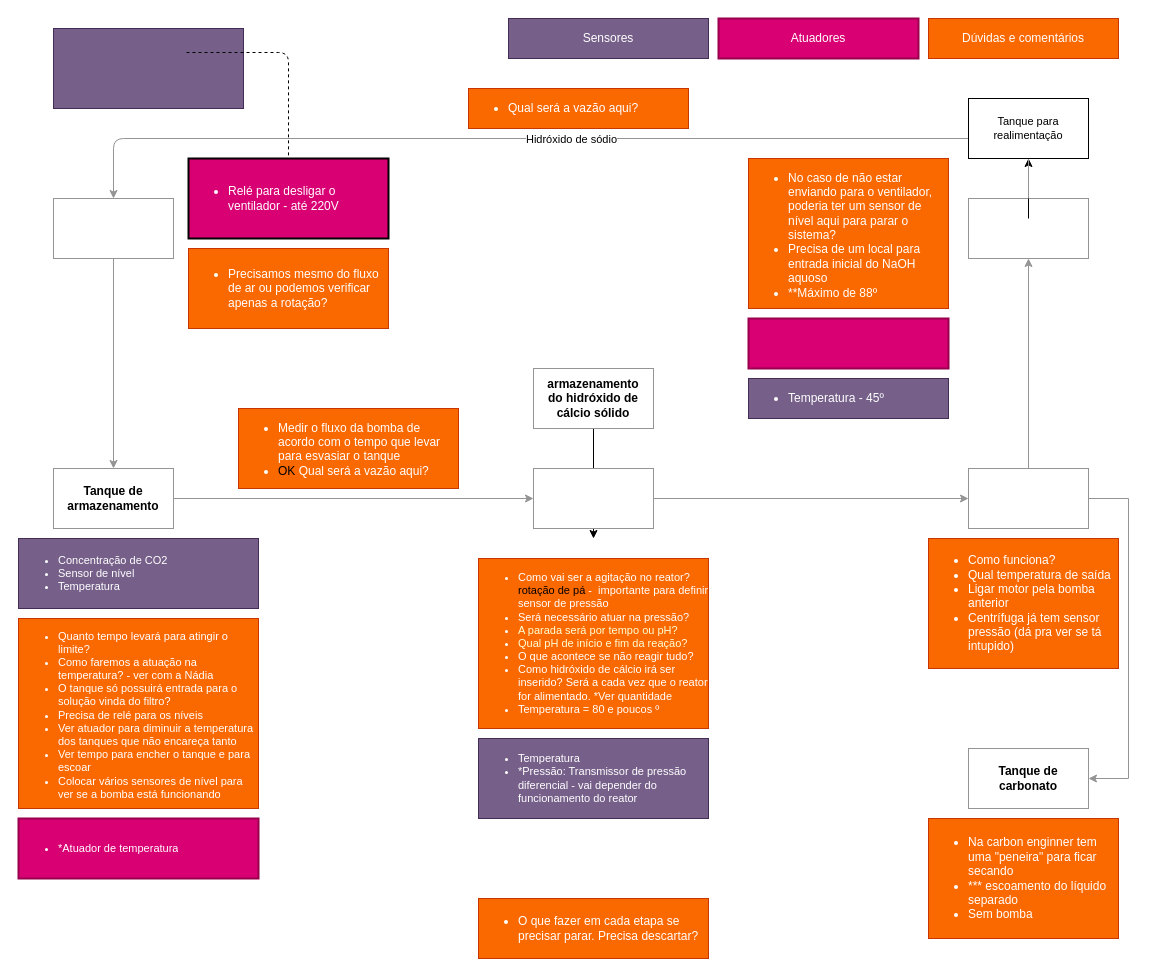
Some shapes in this 1154 by 976 pixel diagram are drawn without their labels. The centre of each missing label's shape, as x and y in pixels:
"*Atuador para temperatura" belongs at (x=848, y=343).
"Armazenamento da solução regenerada" belongs at (x=1028, y=228).
"Captura de CO2" belongs at (x=113, y=228).
"Reator" belongs at (x=593, y=498).
"Separação e secagem" belongs at (x=1028, y=498).
"Umidade do ar *Temperatura ambiente Concentração de CO2" belongs at (x=148, y=68).
